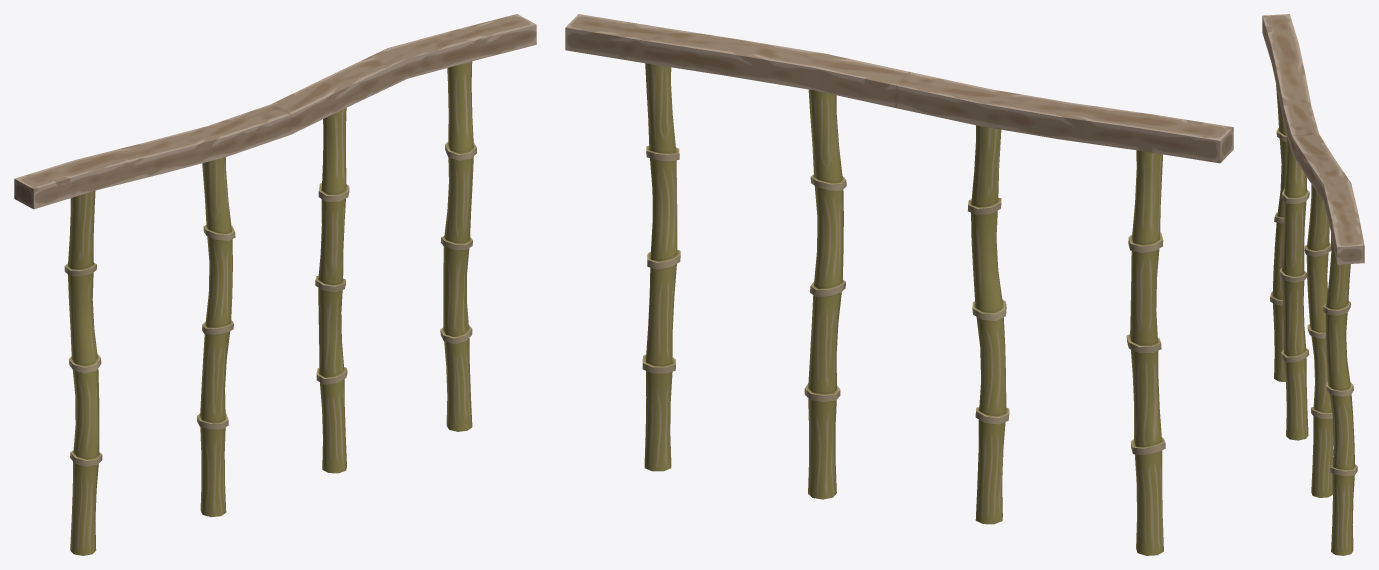
Rendered from Fence.fbx.
3 views of the same model, side by side, from view 1: azimuth 30°, elevation 25°; view 2: azimuth 150°, elevation 25°; view 3: azimuth 270°, elevation 25° (orthographic). The views are drawn at different scales.
Visible parts, largest first — view 1: Fence; view 2: Fence; view 3: Fence.
Boxes of the visible parts, x1,y1,x2,y2 form: Fence: [14, 14, 536, 555]; Fence: [565, 14, 1233, 555]; Fence: [1262, 14, 1364, 555].
Size of the model in its own units: 200 by 136 by 36.94.
